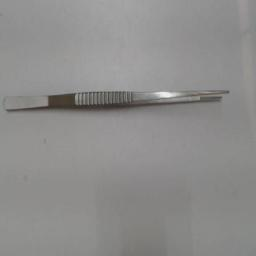DeBakey Dissector: (2, 84, 236, 124)
